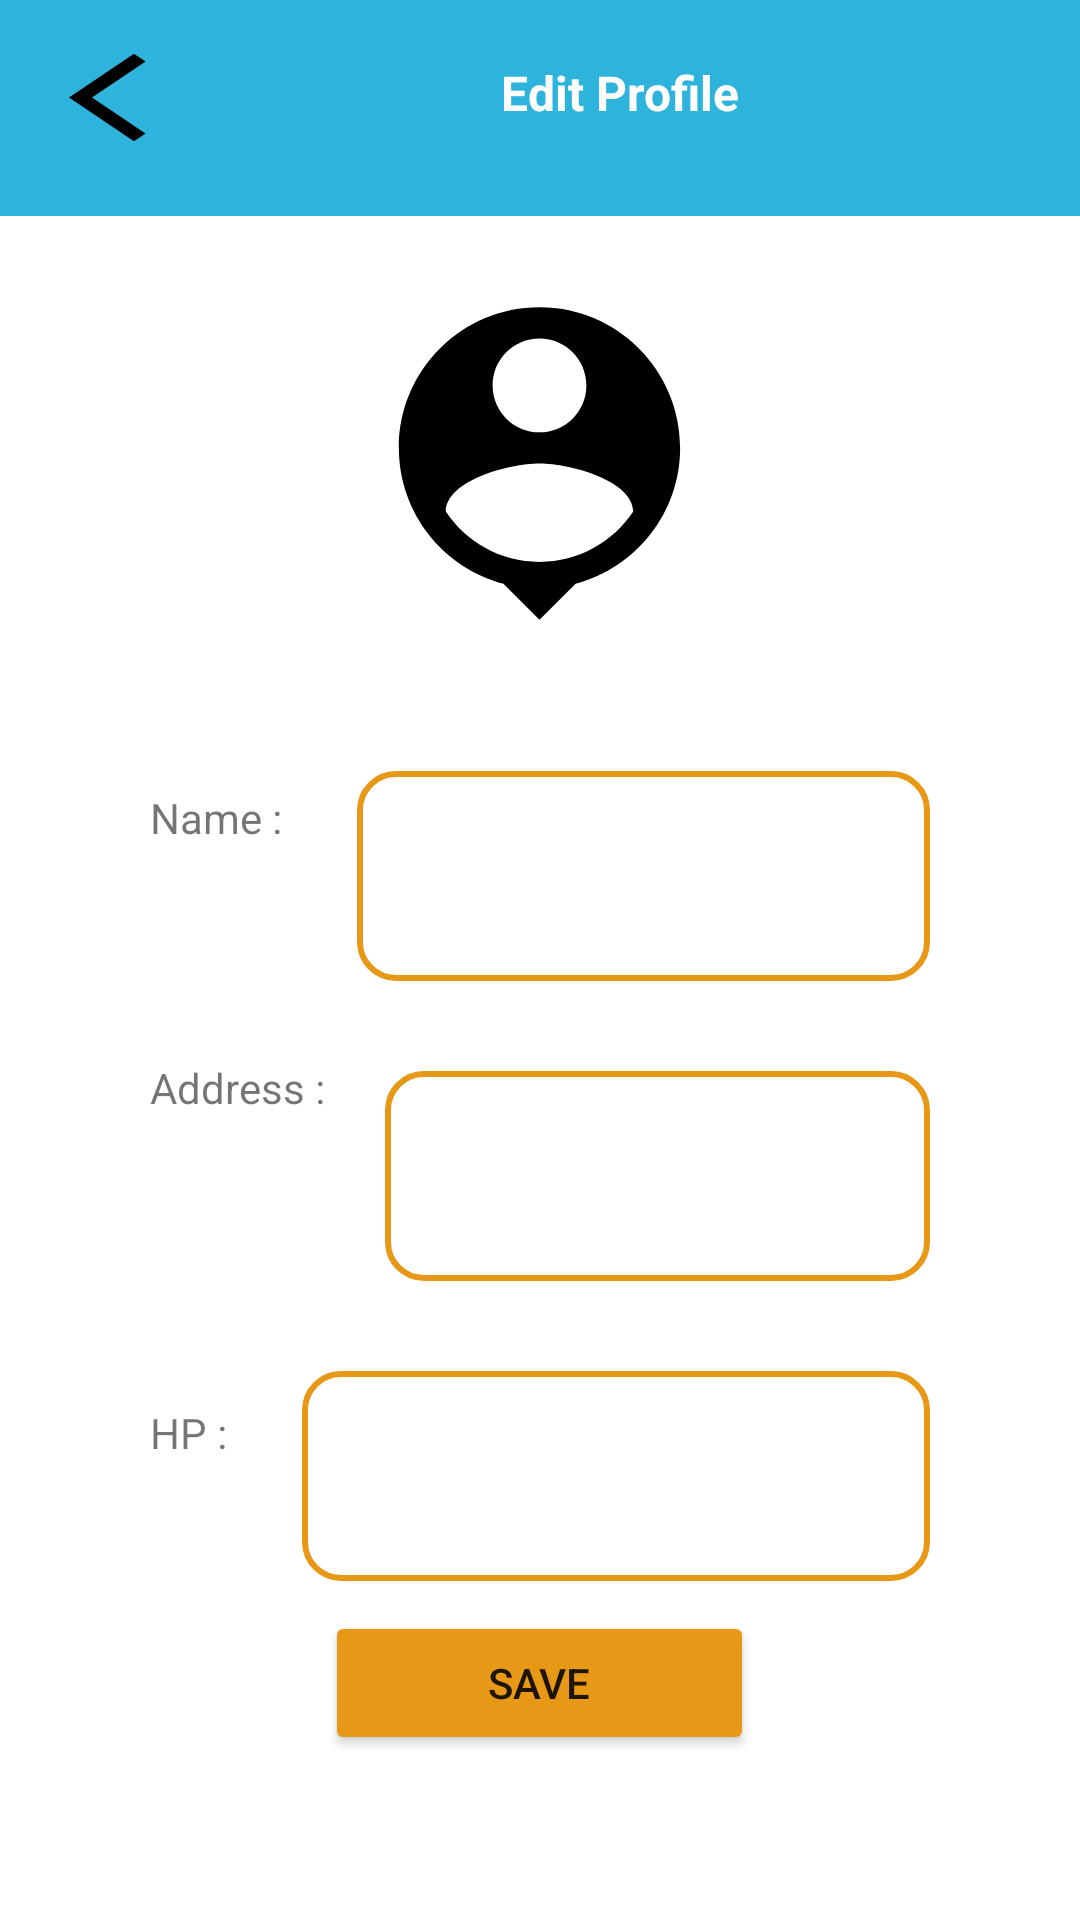

Where to tap for icons on this 1080 x 1920 app screen, as (x=x, y=y):
arrow back: (x=107, y=97)
person pin: (x=539, y=463)
